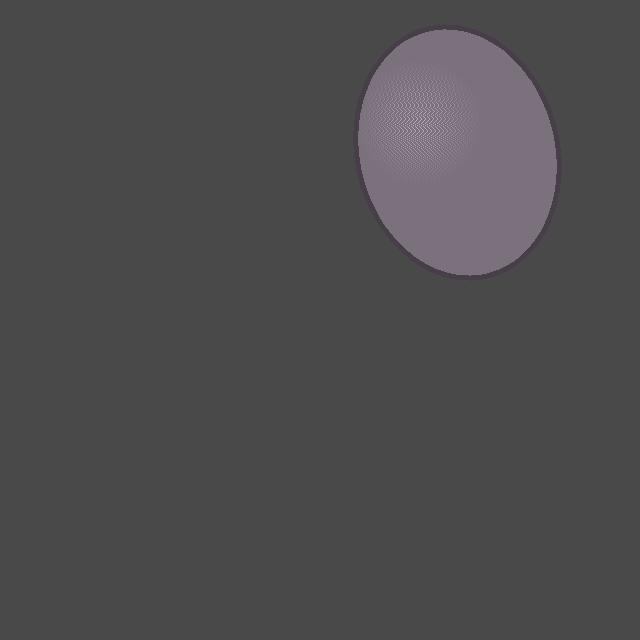lens: (355, 27, 559, 277)
